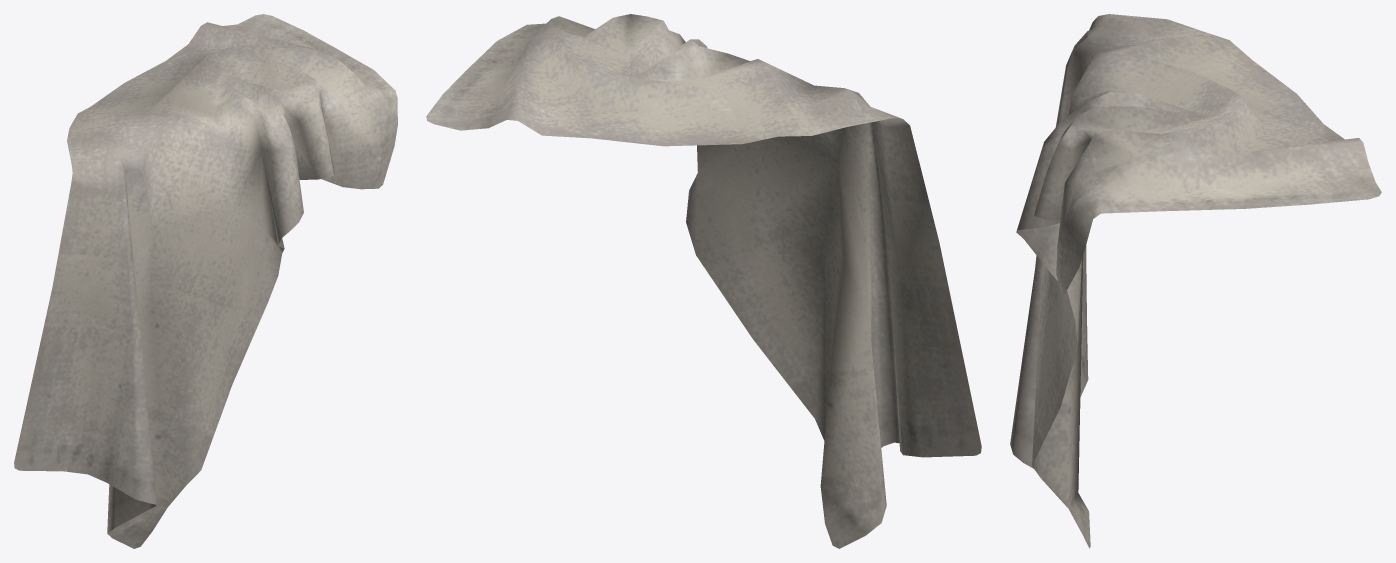
The model's file is 035_tablecloth03b.fbx.
3 renders of one model, left to right at view 1: azimuth 30°, elevation 25°; view 2: azimuth 150°, elevation 25°; view 3: azimuth 270°, elevation 25°, orthographic. The views are drawn at different scales.
Parts seen in each view (by area): view 1: LOD_1_Group_0_Sub_1__sm36_035_TableCloth03B_A_Mat; view 2: LOD_1_Group_0_Sub_1__sm36_035_TableCloth03B_A_Mat; view 3: LOD_1_Group_0_Sub_1__sm36_035_TableCloth03B_A_Mat.
Part boxes in pixels (x1=…): LOD_1_Group_0_Sub_1__sm36_035_TableCloth03B_A_Mat: x1=14, y1=14, x2=397, y2=548; LOD_1_Group_0_Sub_1__sm36_035_TableCloth03B_A_Mat: x1=426, y1=14, x2=981, y2=548; LOD_1_Group_0_Sub_1__sm36_035_TableCloth03B_A_Mat: x1=1010, y1=14, x2=1381, y2=548.
Bounding box in the file's own units: 0.6705 × 0.6964 × 0.435.
